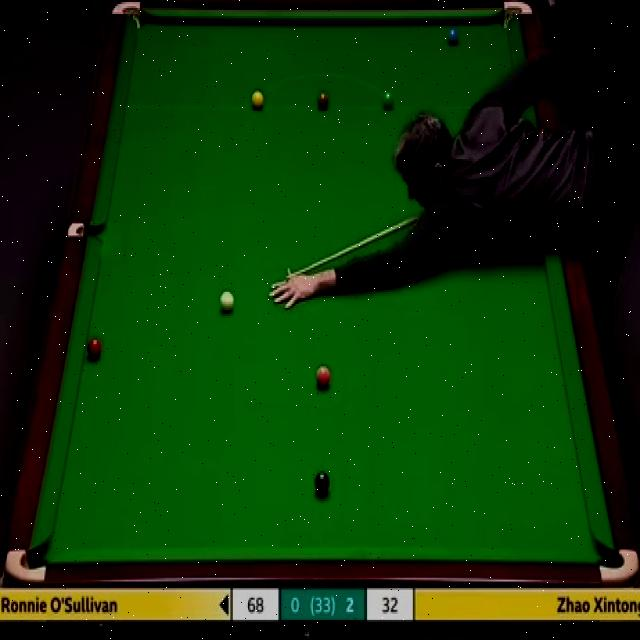black-ball: (313, 470, 331, 496)
blue-ball: (446, 27, 460, 44)
brown-ball: (316, 89, 330, 110)
green-ball: (380, 91, 394, 111)
pink-ball: (314, 365, 331, 389)
red-ball: (86, 338, 103, 362)
white-ball: (219, 286, 235, 314)
yellow-ball: (251, 88, 264, 110)
